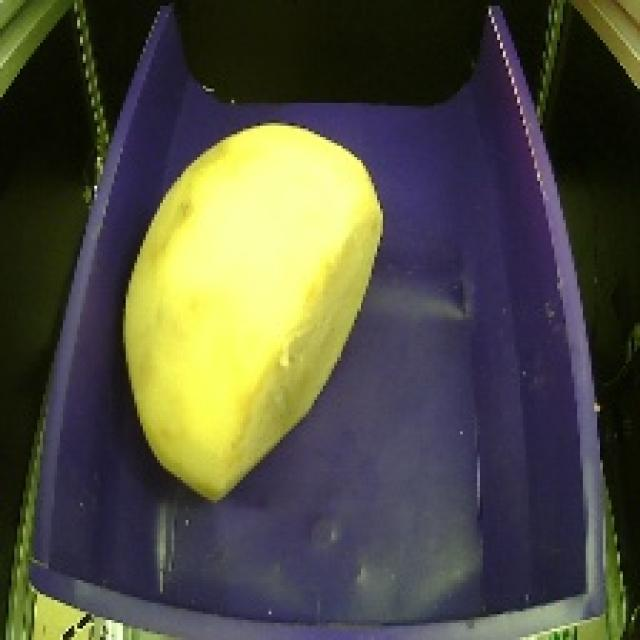full_potato: (108, 115, 397, 519)
